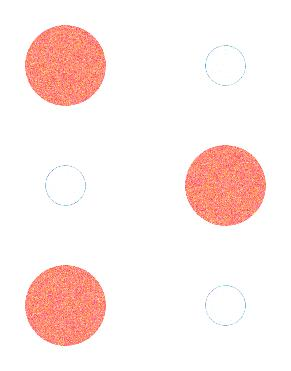O: (20, 18, 271, 354)
